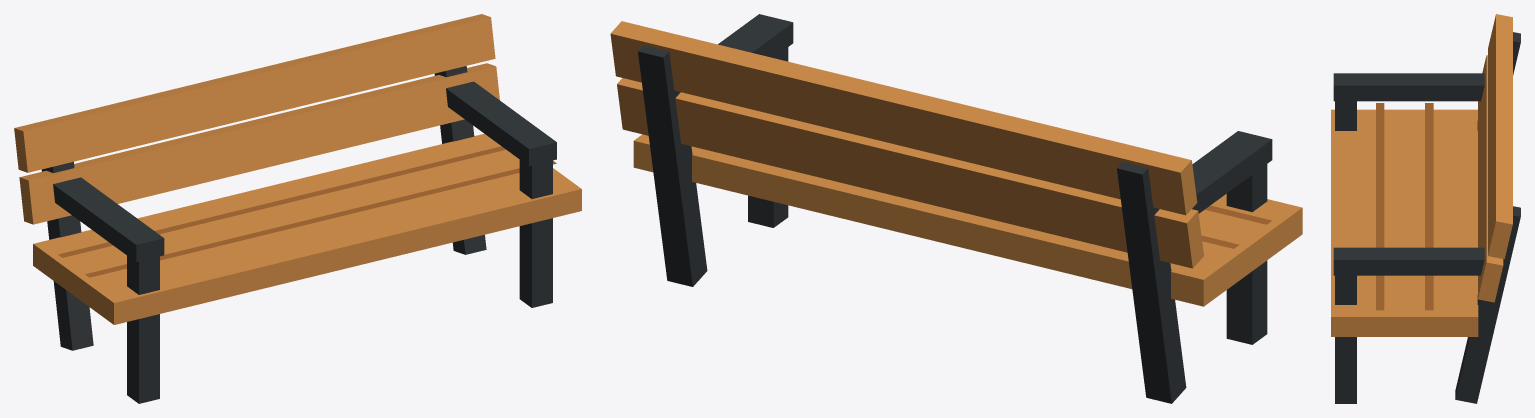
File: bench.glb
3 renders of one model, left to right at view 1: azimuth 30°, elevation 25°; view 2: azimuth 150°, elevation 25°; view 3: azimuth 270°, elevation 25°, orthographic. The views are drawn at different scales.
Parts seen in each view (by area): view 1: bench; view 2: bench; view 3: bench.
Boxes of the visible parts, x1,y1,x2,y2 form: bench: [14, 14, 581, 403]; bench: [610, 14, 1302, 403]; bench: [1331, 14, 1520, 403].
Size of the model in its own units: 0.2 by 0.0876 by 0.0773.
